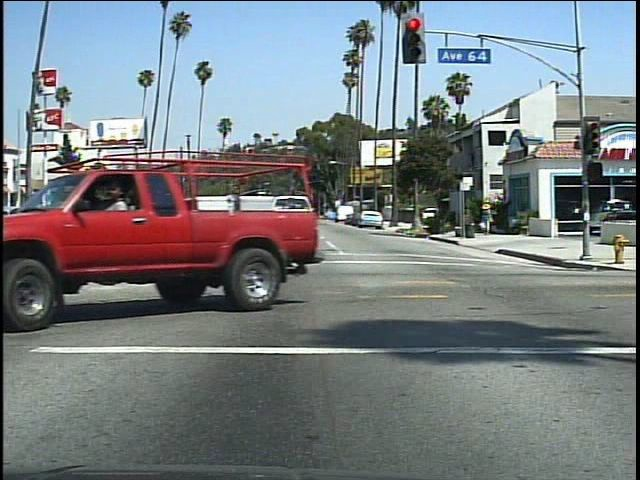person: (107, 175, 150, 308), (478, 199, 501, 238)
